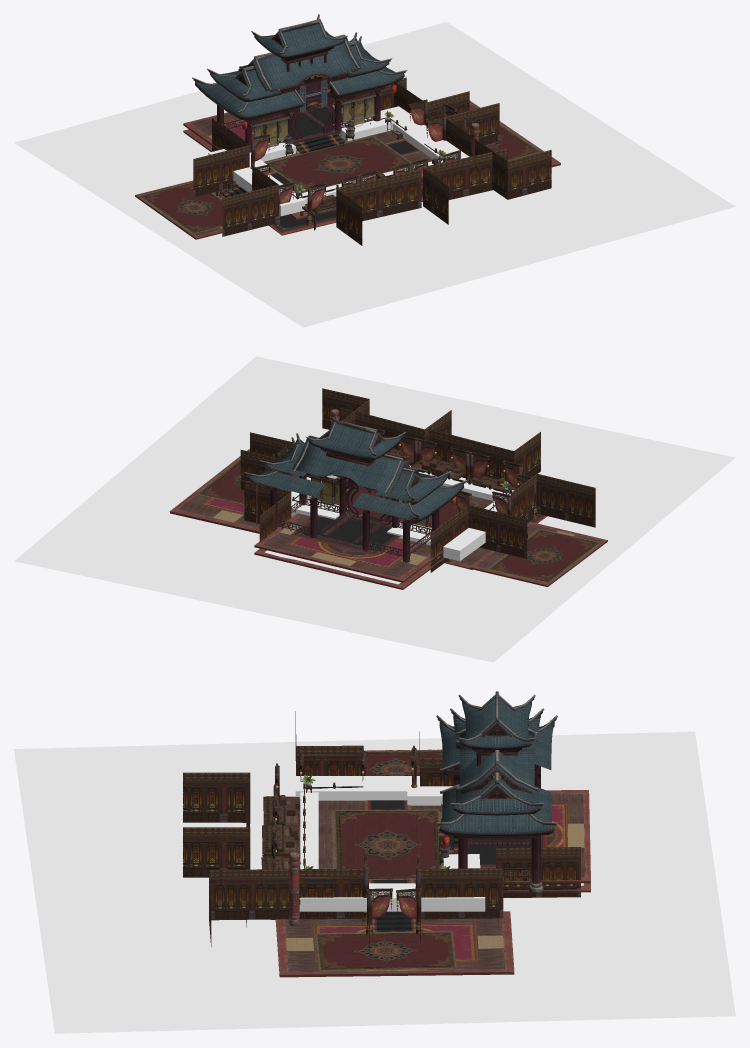
3 views of the same model, one above another, from view 1: azimuth 30°, elevation 25°; view 2: azimuth 150°, elevation 25°; view 3: azimuth 270°, elevation 25° (orthographic). The views are drawn at different scales.
Visible parts, largest first — view 1: water_shuimian01, build_chitangqu_zhupingtai005, build_menchuang_Receive (×4), hongdiban01_Receive (×2), build_menchuang_Caster (×2), Cube (×3), build_chitangqu_jianzhu01_Caster_Receive_BigVertex_0, build_yuanluo_wutai02_Receive (×2), build_zhiwu_Caster (×2), build_zhiwu_Caster_Receive (×2), build_xiaoditan_Receive (×2), build_yuanluo_wutai (+3 smaller); view 2: water_shuimian01, build_chitangqu_zhupingtai005, build_menchuang_Caster (×2), build_yuanluo_wutai02_Receive (×2), build_menchuang_Receive (×4), hongdiban01_Receive (×2), build_yuanluo_wutai, build_zhiwu_Caster_Receive (×2), Cube (×3), build_chitangqu_jianzhu01_Caster_Receive_BigVertex_0, build_xiaoditan_Receive, build_menchuang (+2 smaller); view 3: water_shuimian01, build_chitangqu_zhupingtai005, build_menchuang_Receive (×4), hongdiban01_Receive (×2), build_yuanluo_wutai, Cube (×4), build_menchuang_Caster (×2), build_menchuang, build_yuanluo_wutai02_Receive, build_louti_Receive (×2), build_zhuzi06 (×2), build_xiaoditan_Receive (+4 smaller).
Boxes of the visible parts, <box> form: water_shuimian01: <box>14,22,735,327</box>; build_chitangqu_zhupingtai005: <box>192,14,407,152</box>; build_menchuang_Receive (×4): <box>336,82,551,245</box>; hongdiban01_Receive (×2): <box>138,123,541,233</box>; build_menchuang_Caster (×2): <box>193,103,499,236</box>; Cube (×3): <box>208,106,469,216</box>; build_chitangqu_jianzhu01_Caster_Receive_BigVertex_0: <box>223,76,396,143</box>; build_yuanluo_wutai02_Receive (×2): <box>135,103,353,239</box>; build_zhiwu_Caster (×2): <box>250,113,460,225</box>; build_zhiwu_Caster_Receive (×2): <box>306,99,428,226</box>; build_xiaoditan_Receive (×2): <box>252,103,342,232</box>; build_yuanluo_wutai: <box>265,100,560,219</box>; water_shuimian01: <box>14,356,735,662</box>; build_chitangqu_zhupingtai005: <box>244,414,466,563</box>; build_menchuang_Caster (×2): <box>250,430,595,572</box>; build_yuanluo_wutai02_Receive (×2): <box>254,513,607,589</box>; build_menchuang_Receive (×4): <box>240,388,540,524</box>; hongdiban01_Receive (×2): <box>196,457,601,583</box>; build_yuanluo_wutai: <box>169,449,492,562</box>; build_zhiwu_Caster_Receive (×2): <box>289,434,522,488</box>; Cube (×3): <box>291,472,513,561</box>; build_chitangqu_jianzhu01_Caster_Receive_BigVertex_0: <box>269,473,433,557</box>; build_xiaoditan_Receive: <box>290,516,400,555</box>; build_menchuang: <box>244,480,291,549</box>; water_shuimian01: <box>14,731,735,1033</box>; build_chitangqu_zhupingtai005: <box>436,691,557,893</box>; build_menchuang_Receive (×4): <box>183,772,503,946</box>; hongdiban01_Receive (×2): <box>315,749,456,971</box>; build_yuanluo_wutai: <box>275,800,514,977</box>; Cube (×4): <box>295,776,485,911</box>; build_menchuang_Caster (×2): <box>295,711,456,950</box>; build_menchuang: <box>496,847,580,922</box>; build_yuanluo_wutai02_Receive: <box>480,790,590,892</box>; build_louti_Receive (×2): <box>365,800,458,931</box>; build_zhuzi06 (×2): <box>366,888,422,935</box>; build_xiaoditan_Receive: <box>467,816,546,866</box>.
Size of the model in its own units: 227 by 60.24 by 229.
